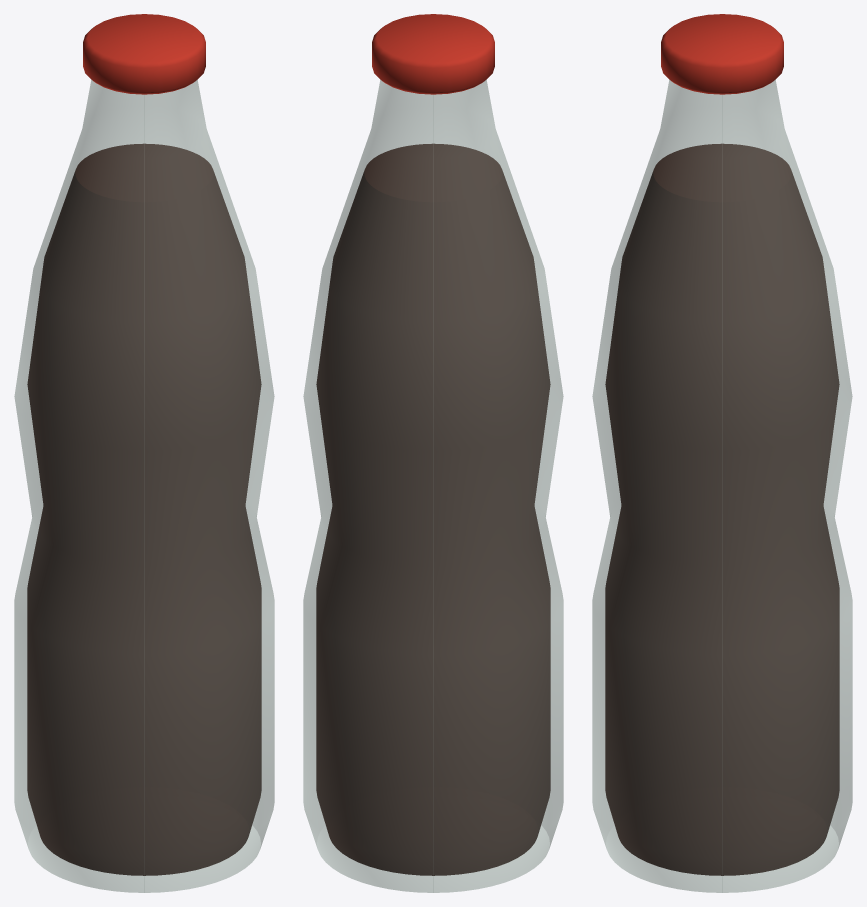
File: ks-escuro.glb
3 views of the same model, side by side, from view 1: azimuth 30°, elevation 25°; view 2: azimuth 150°, elevation 25°; view 3: azimuth 270°, elevation 25° (orthographic).
Visible parts, largest first — view 1: ks-escuro; view 2: ks-escuro; view 3: ks-escuro.
Part boxes in pixels (box(x1,y1,x2,y2)): ks-escuro: box(14, 14, 274, 892); ks-escuro: box(303, 14, 563, 892); ks-escuro: box(592, 14, 852, 892).
Size of the model in its own units: 0.058 by 0.1982 by 0.058.
